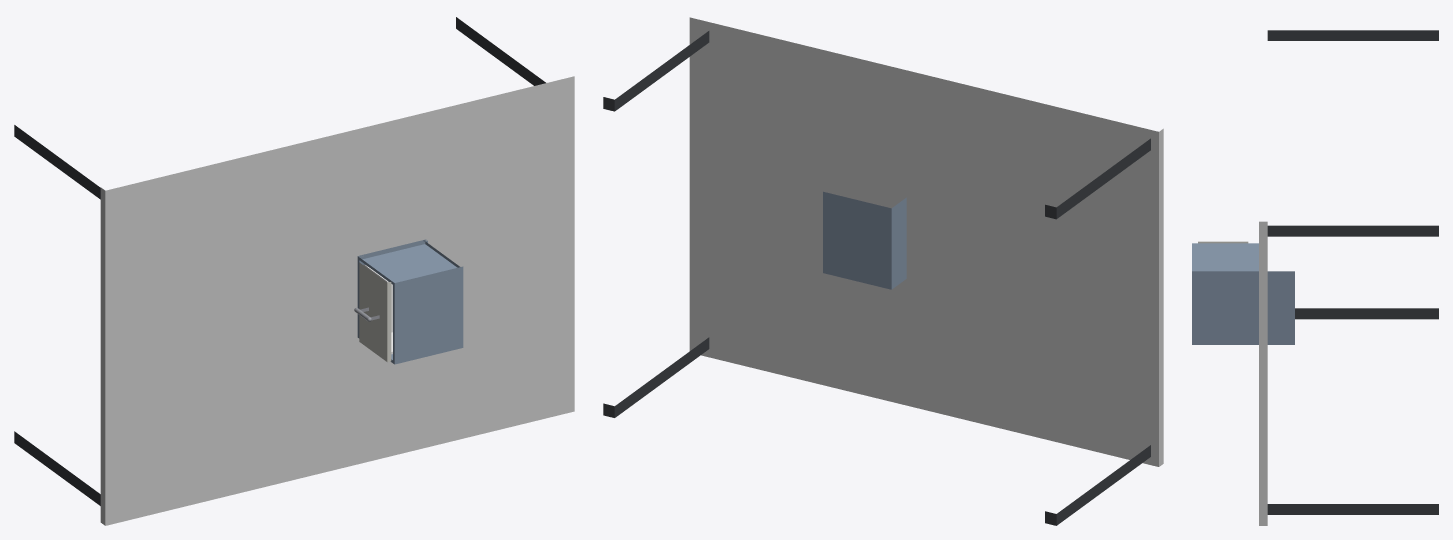
3 views of the same model, side by side, from view 1: azimuth 30°, elevation 25°; view 2: azimuth 150°, elevation 25°; view 3: azimuth 270°, elevation 25° (orthographic). The views are drawn at different scales.
Visible parts, largest first — view 1: s0, s1, s2; view 2: s0, s1; view 3: s0, s1.
Part boxes in pixels (x1=…): s0: x1=14, y1=17, x2=574, y2=525; s1: x1=357, y1=239, x2=463, y2=364; s2: x1=354, y1=262, x2=392, y2=362; s0: x1=603, y1=17, x2=1163, y2=525; s1: x1=823, y1=191, x2=906, y2=289; s0: x1=1259, y1=30, x2=1438, y2=525; s1: x1=1192, y1=243, x2=1294, y2=344.
Bounding box in the file's own units: 2.05 × 1.4 × 1.03.
